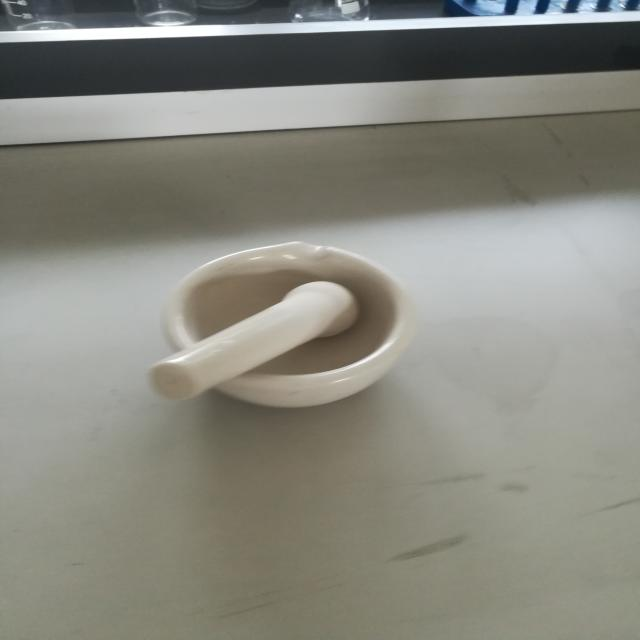Porcelain_Mortar Pestle: (97, 184, 449, 434)
